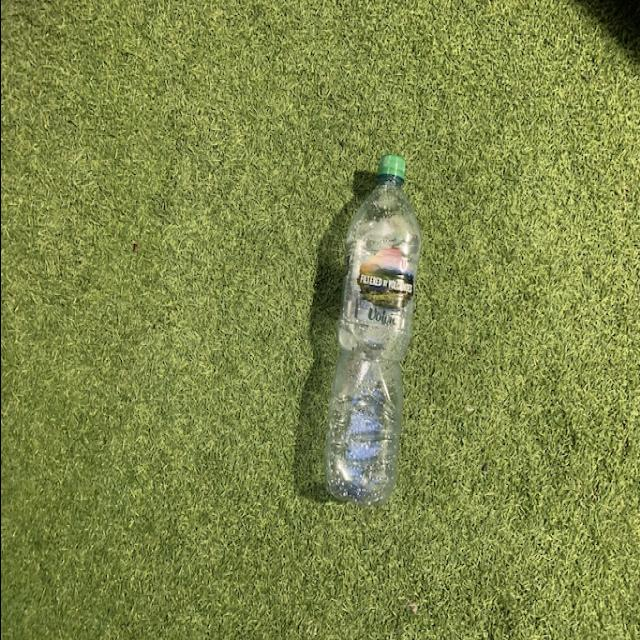litter: (322, 151, 419, 511)
